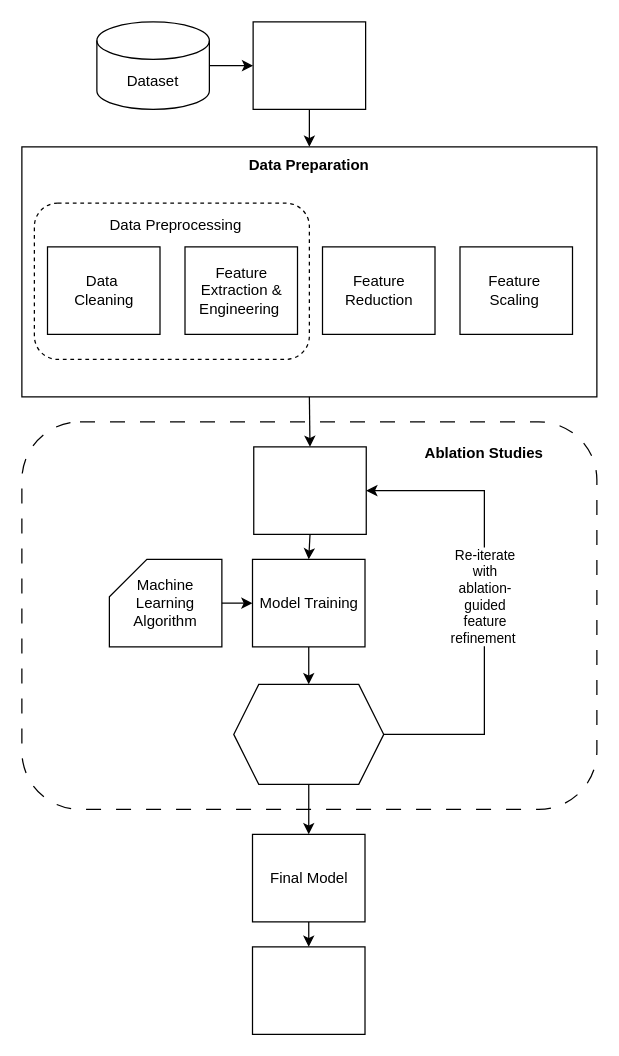
This 619x1056 diagram has some shape labels left out. Each missing label, with the centre of its shape:
Ablation-Guided Feature Selection: [309,490]
Data Retrieval: [309,65]
Final Evaluation on Test Set: [308,990]
Model Interpretability & Model Evaluation: [308,733]
